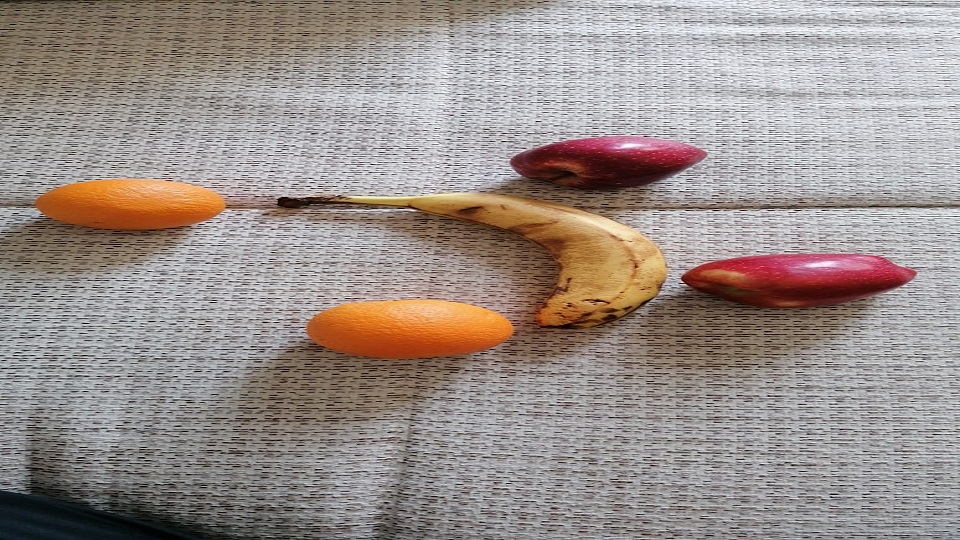elma: (682, 252, 919, 309), (509, 134, 708, 190)
muz: (362, 192, 667, 331)
portakal: (307, 297, 515, 360), (34, 177, 227, 232)
